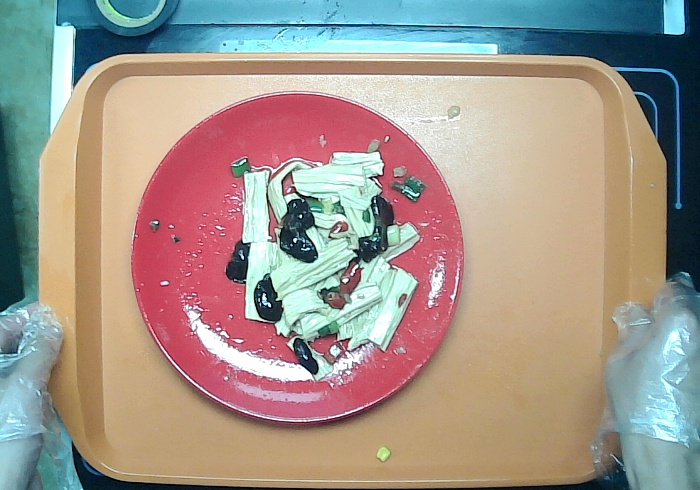HZYJPL-Hong_Se_Yuan_Pan: (122, 84, 470, 431)
